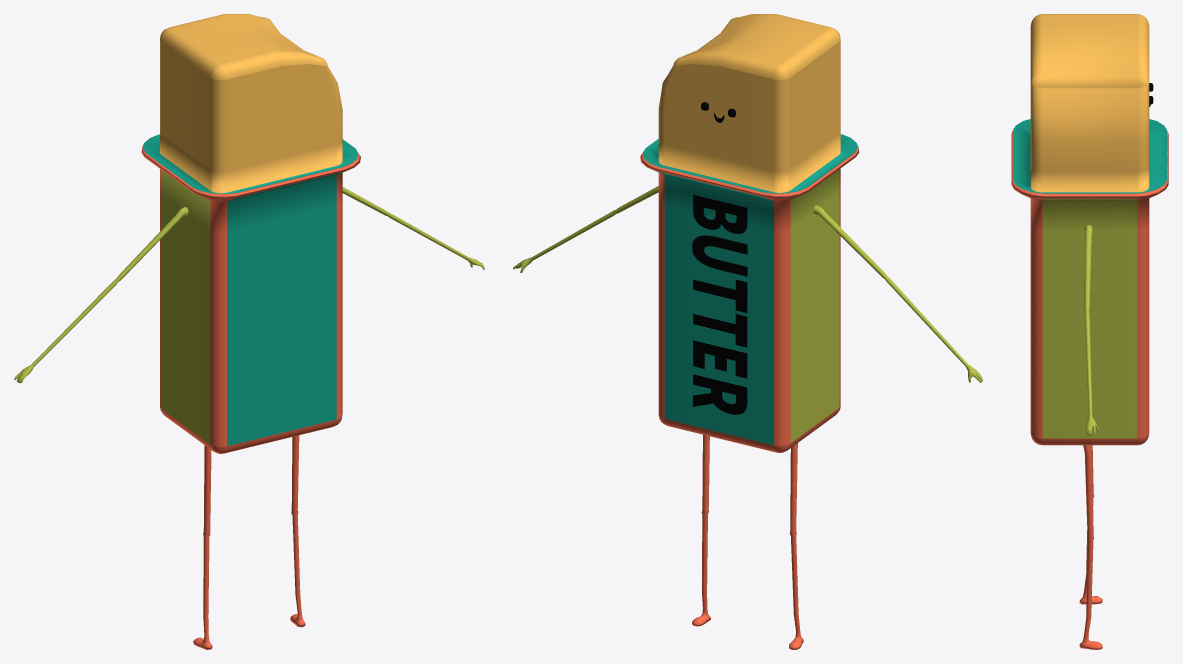
Rendered from rig_clear_083.fbx.
3 renders of one model, left to right at view 1: azimuth 30°, elevation 25°; view 2: azimuth 150°, elevation 25°; view 3: azimuth 270°, elevation 25°, orthographic. The views are drawn at different scales.
Visible parts, largest first — view 1: mesh_char_119; view 2: mesh_char_119; view 3: mesh_char_119.
Part boxes in pixels (box(x1,y1,x2,y2)): mesh_char_119: box(14, 14, 484, 649); mesh_char_119: box(513, 14, 982, 649); mesh_char_119: box(1011, 14, 1168, 649).
Bounding box in the file's own units: 23.23 × 28.47 × 6.94.
